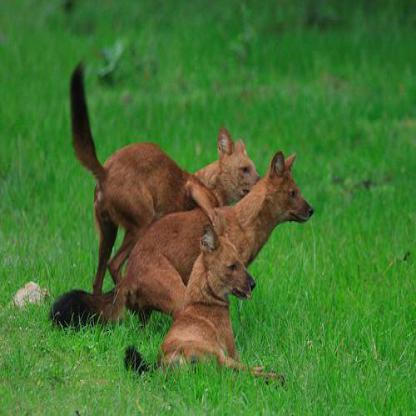dhole: (45, 144, 311, 330), (69, 58, 264, 298), (123, 211, 283, 382)
